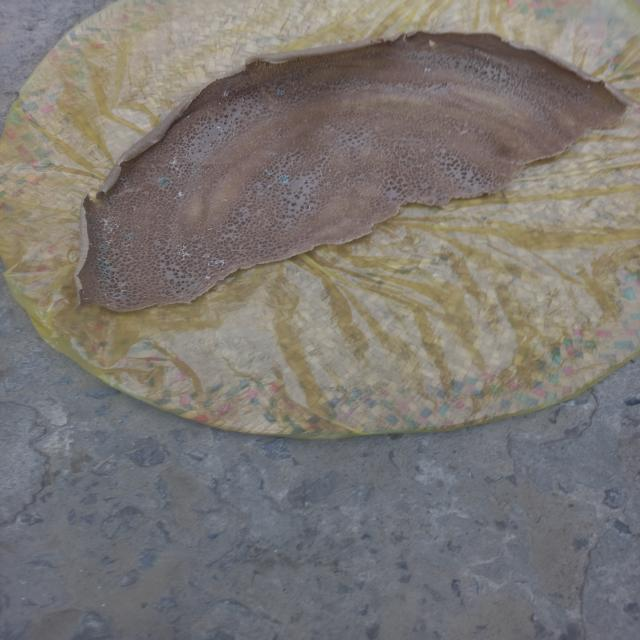injera_mold: (100, 216, 119, 233), (177, 244, 192, 262), (206, 258, 227, 268), (158, 177, 172, 187), (170, 157, 180, 170), (96, 258, 109, 266), (278, 175, 289, 182), (99, 243, 109, 250), (100, 270, 111, 276), (106, 198, 115, 205), (264, 169, 274, 175), (222, 90, 230, 97), (125, 233, 133, 239), (88, 242, 96, 248), (91, 219, 99, 225), (120, 242, 131, 246), (424, 67, 431, 73), (92, 232, 100, 237), (275, 90, 284, 94), (177, 192, 184, 197), (204, 276, 211, 280), (105, 303, 112, 307), (119, 177, 126, 181), (266, 185, 273, 189), (105, 240, 112, 243), (270, 153, 276, 156), (196, 168, 200, 172), (216, 126, 222, 128), (222, 199, 227, 201), (197, 186, 201, 188), (208, 228, 212, 230), (174, 197, 177, 199)
